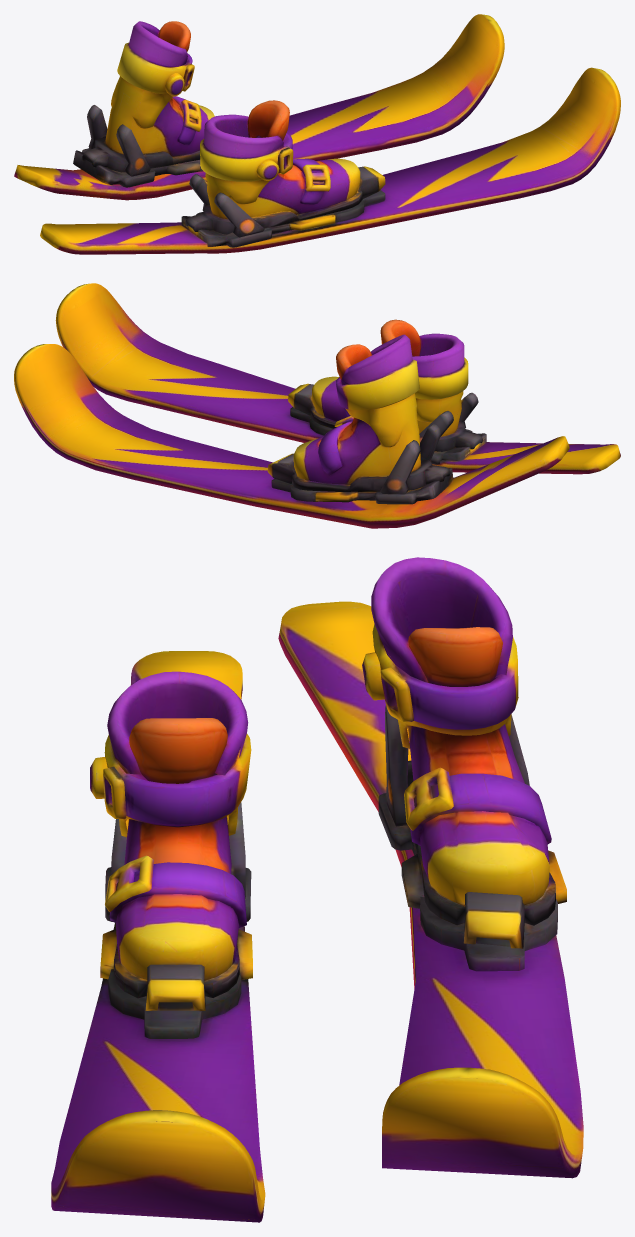
The model's file is skis-boots.glb.
3 renders of one model, top to bottom at view 1: azimuth 30°, elevation 25°; view 2: azimuth 150°, elevation 25°; view 3: azimuth 270°, elevation 25°, orthographic. The views are drawn at different scales.
Visible parts, largest first — view 1: tripo_node_924637f4-5b74-4d76-910f-90b91d91d4a8; view 2: tripo_node_924637f4-5b74-4d76-910f-90b91d91d4a8; view 3: tripo_node_924637f4-5b74-4d76-910f-90b91d91d4a8.
Boxes of the visible parts, x1,y1,x2,y2 form: tripo_node_924637f4-5b74-4d76-910f-90b91d91d4a8: [14, 14, 620, 254]; tripo_node_924637f4-5b74-4d76-910f-90b91d91d4a8: [14, 283, 620, 528]; tripo_node_924637f4-5b74-4d76-910f-90b91d91d4a8: [51, 557, 583, 1222].
Size of the model in its own units: 0.9995 by 0.2974 by 0.4224.
Materials: 1 (1 with a texture image).
